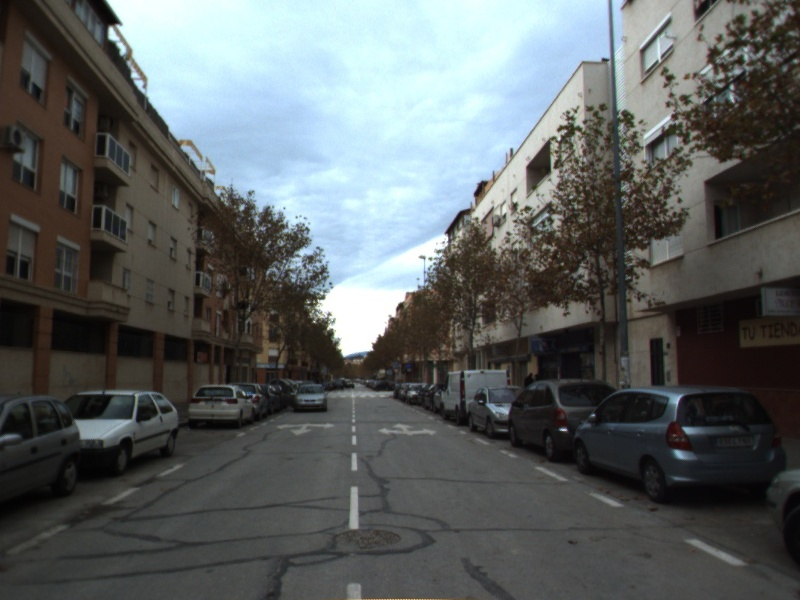STRAIGHT_LEFT_RIGHT: (376, 421, 438, 437)
